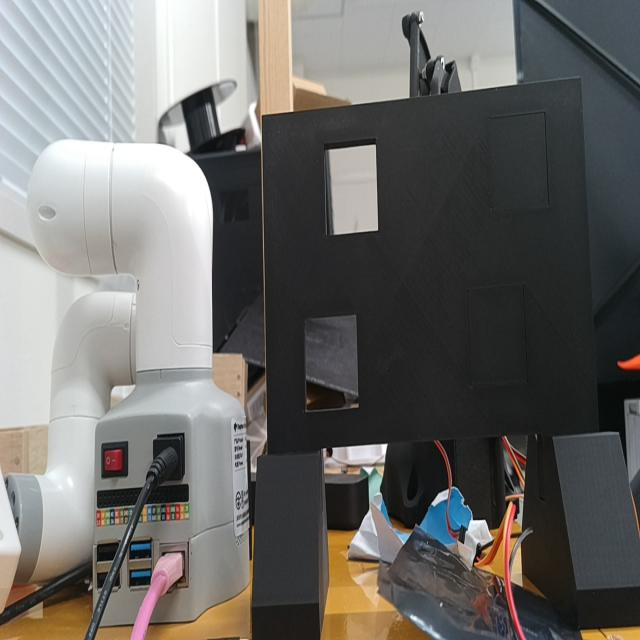Obstacle: (305, 313, 360, 414), (326, 145, 378, 234)
Wall: (262, 77, 598, 454)
